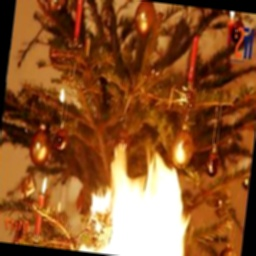fire: (74, 141, 208, 256)
